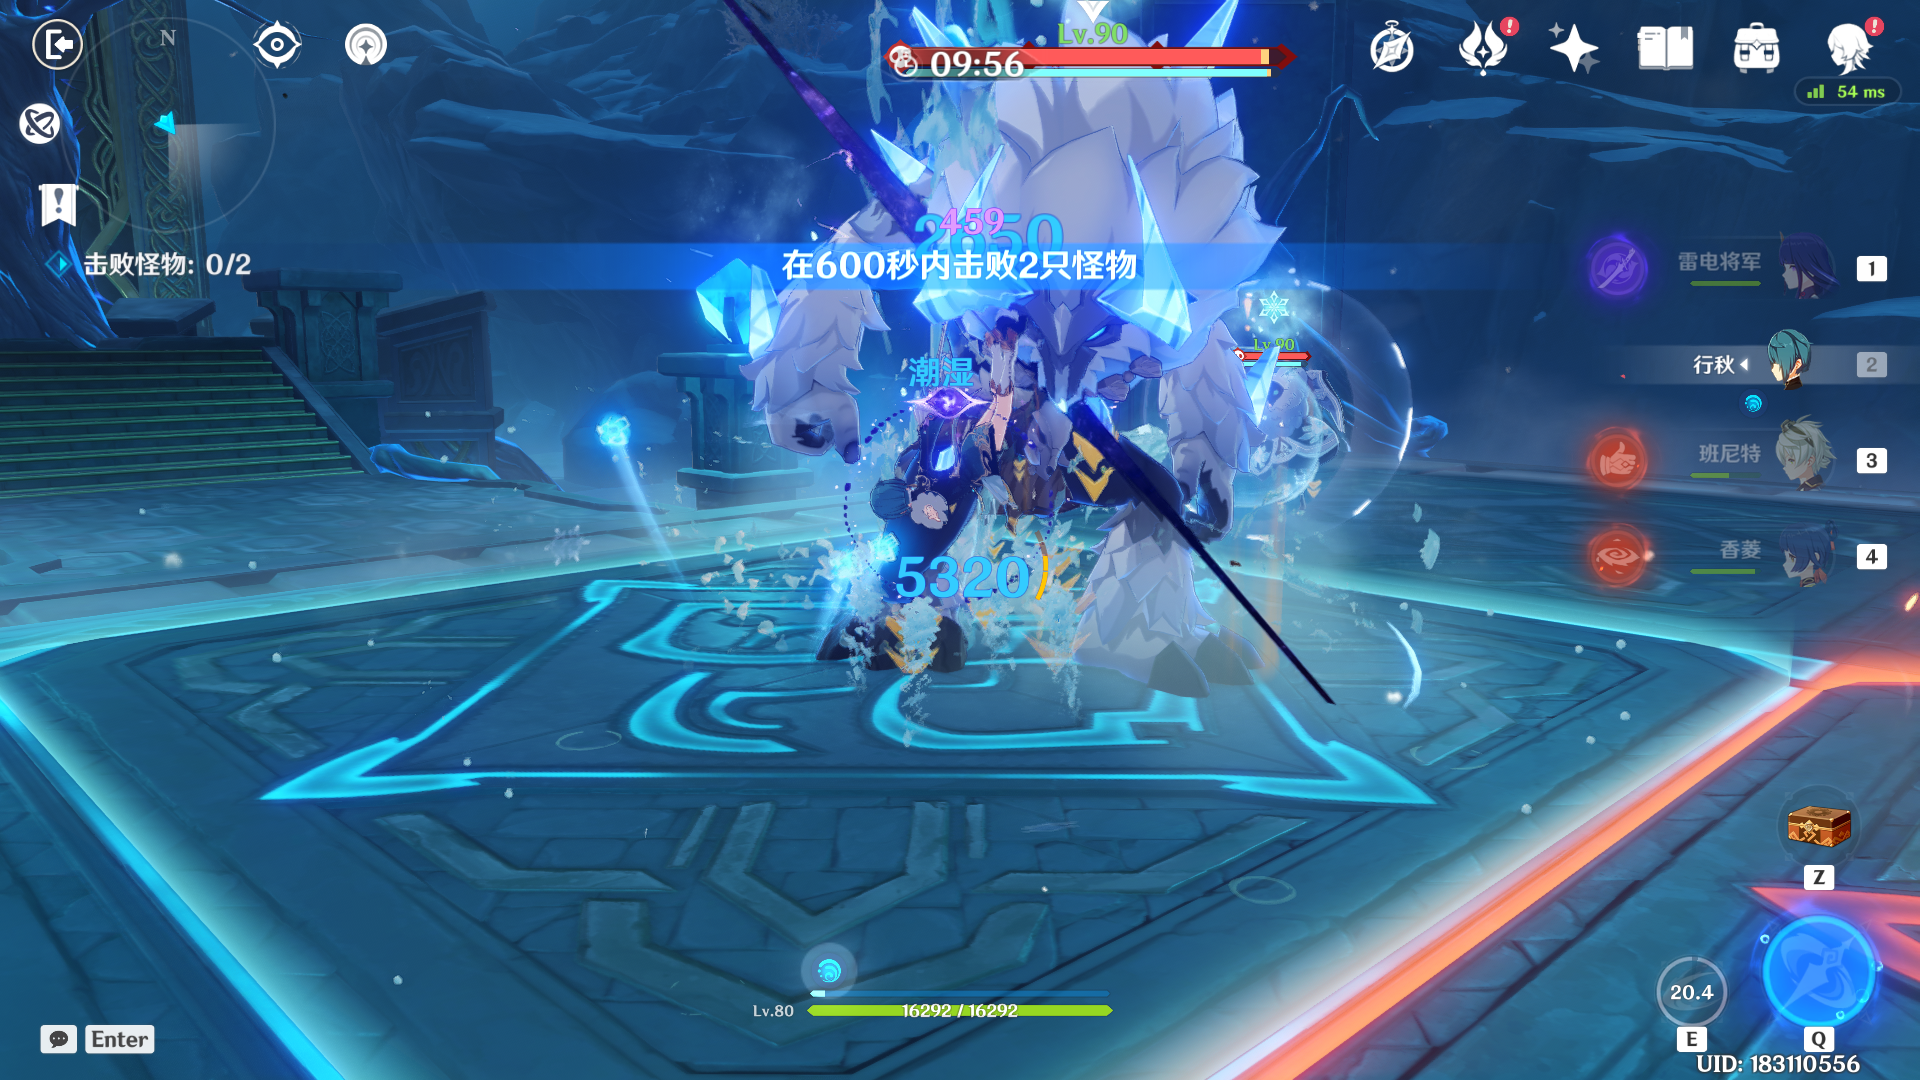bosshili: (662, 1, 1341, 789)
caster: (1193, 342, 1373, 516)
